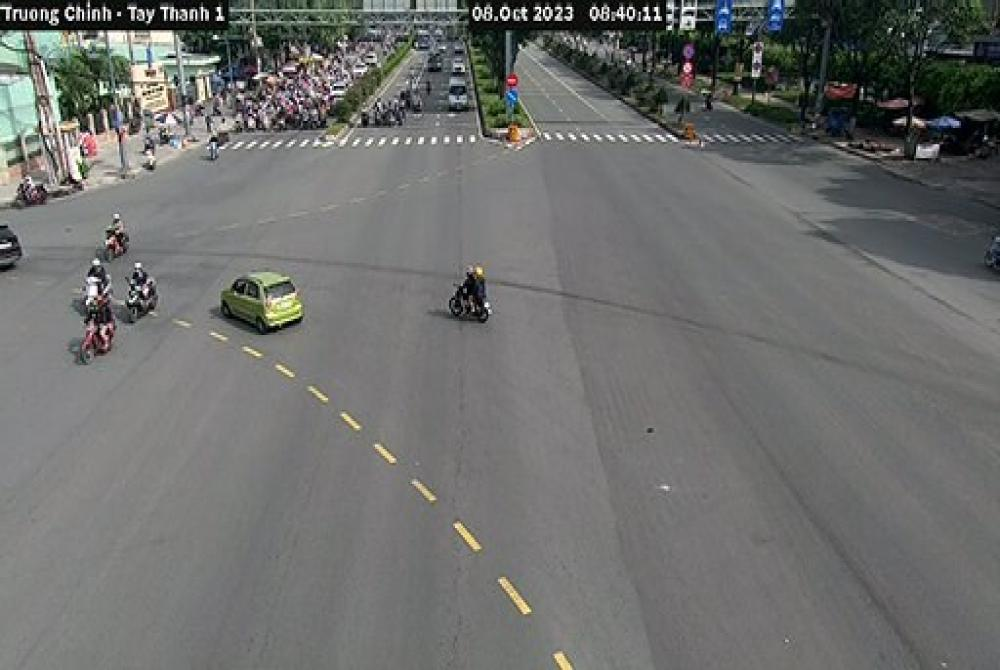car: (219, 266, 307, 334)
